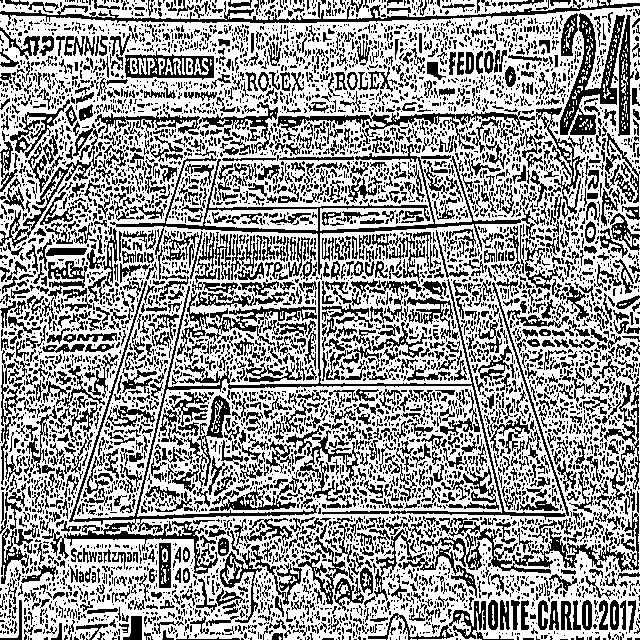left side: (71, 159, 219, 520), (419, 156, 567, 514)
player: (198, 378, 232, 507), (260, 76, 281, 148)
